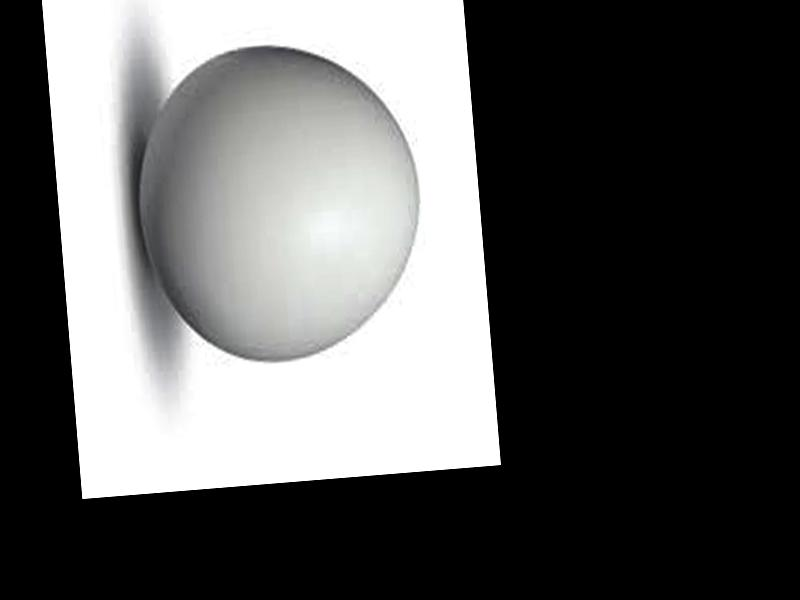Eggs: (129, 39, 433, 370)
